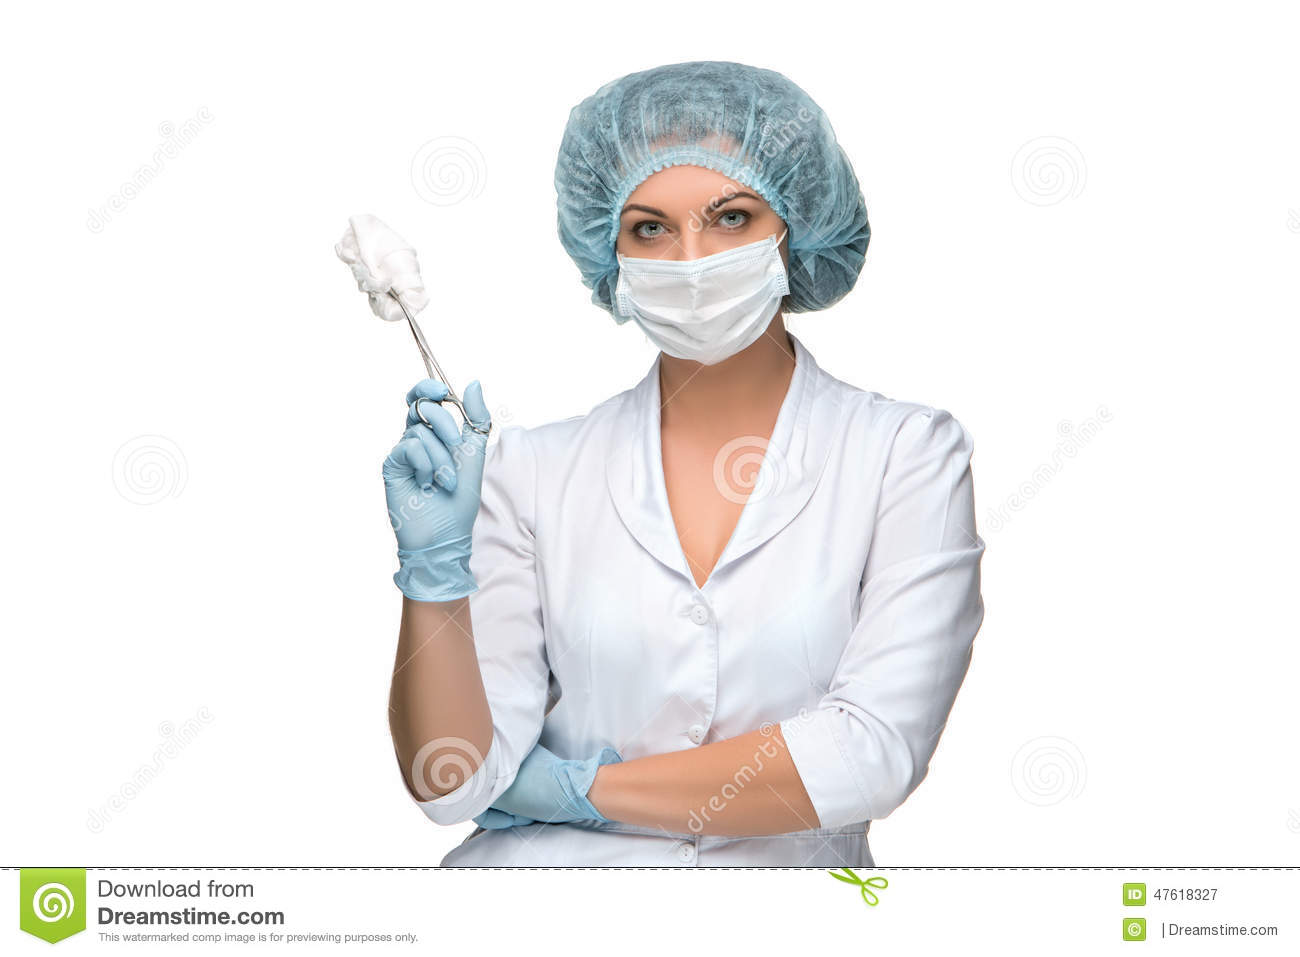mask: (603, 237, 808, 379)
